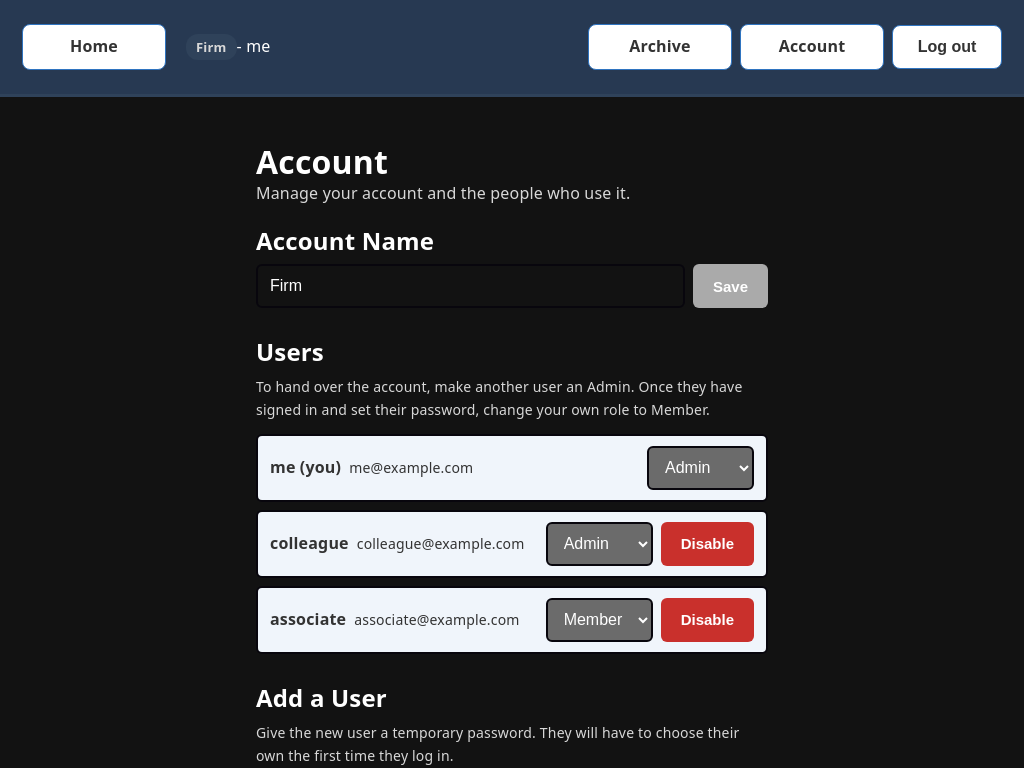
AccountScreen admin handoff › keeps you an admin when you cancel
expect the text "colleague" is shown: met, box [270, 532, 349, 555]
Select "Member" in the dropdown named "Role for me": (700, 468) [647, 446, 754, 490]
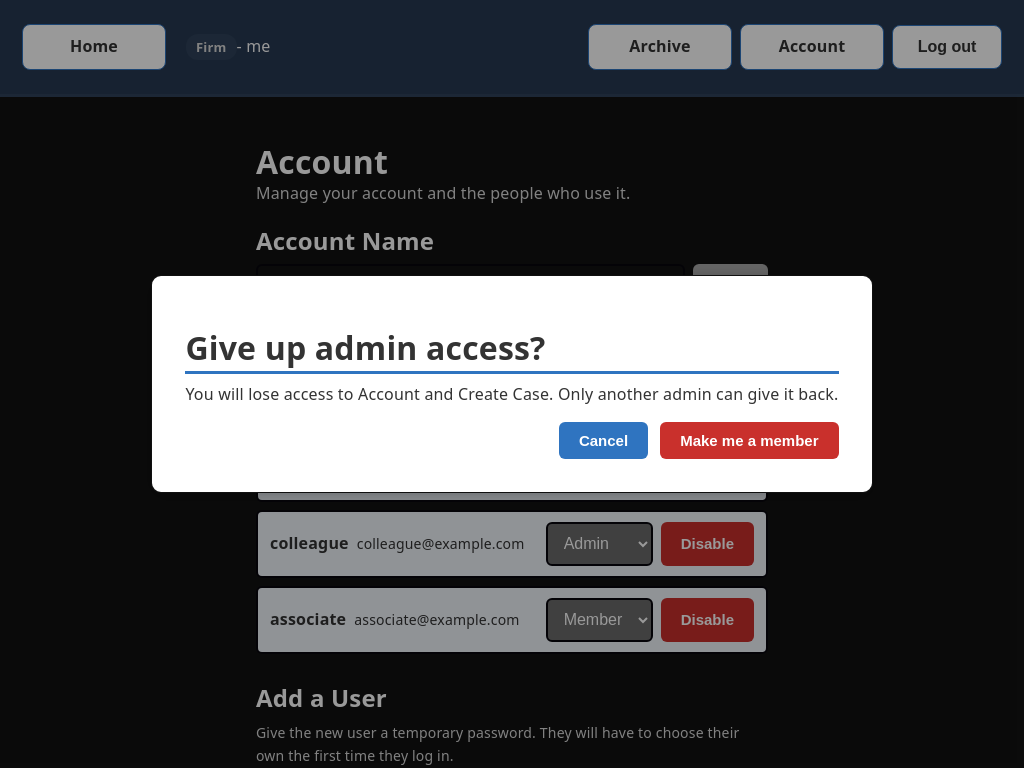
Click the button "Cancel": (604, 440) [559, 422, 648, 459]
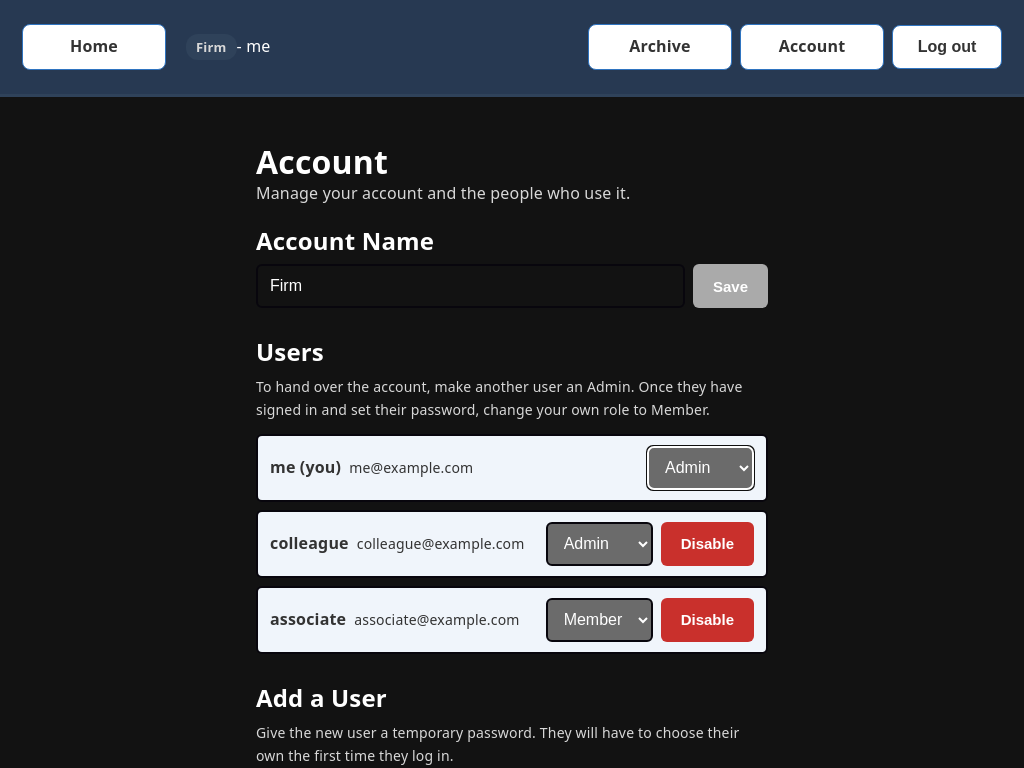
expect the dialog is gone: met
